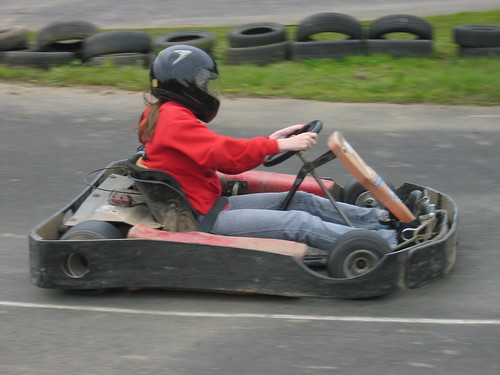helmet: (146, 41, 228, 124)
